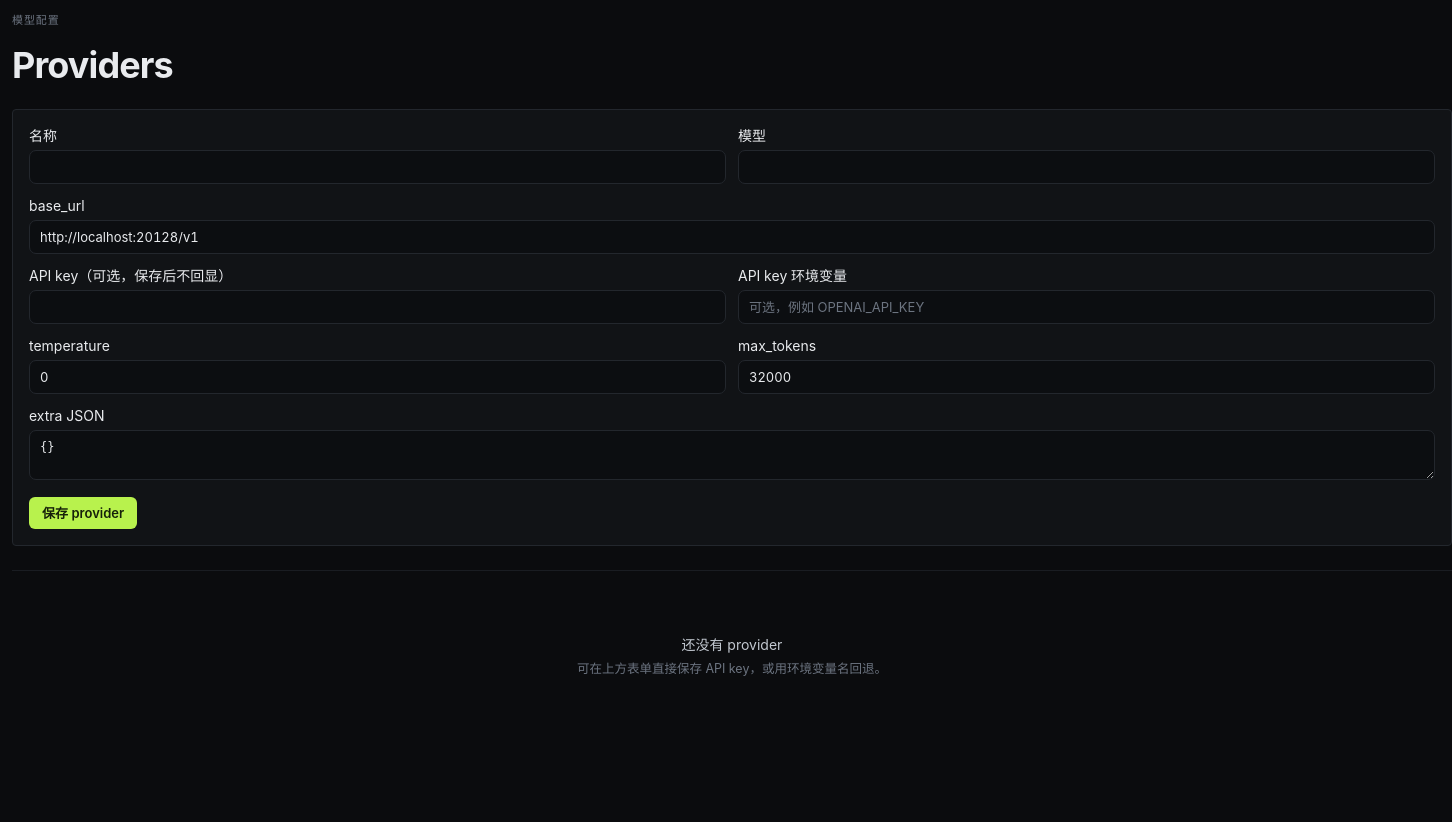
Scenario: ProvidersView › requires a stored key or an env ref
This screenshot has width=1452, height=822.
Type "local" into the field labelled "名称" at x=378, y=167, box [29,150,726,184]
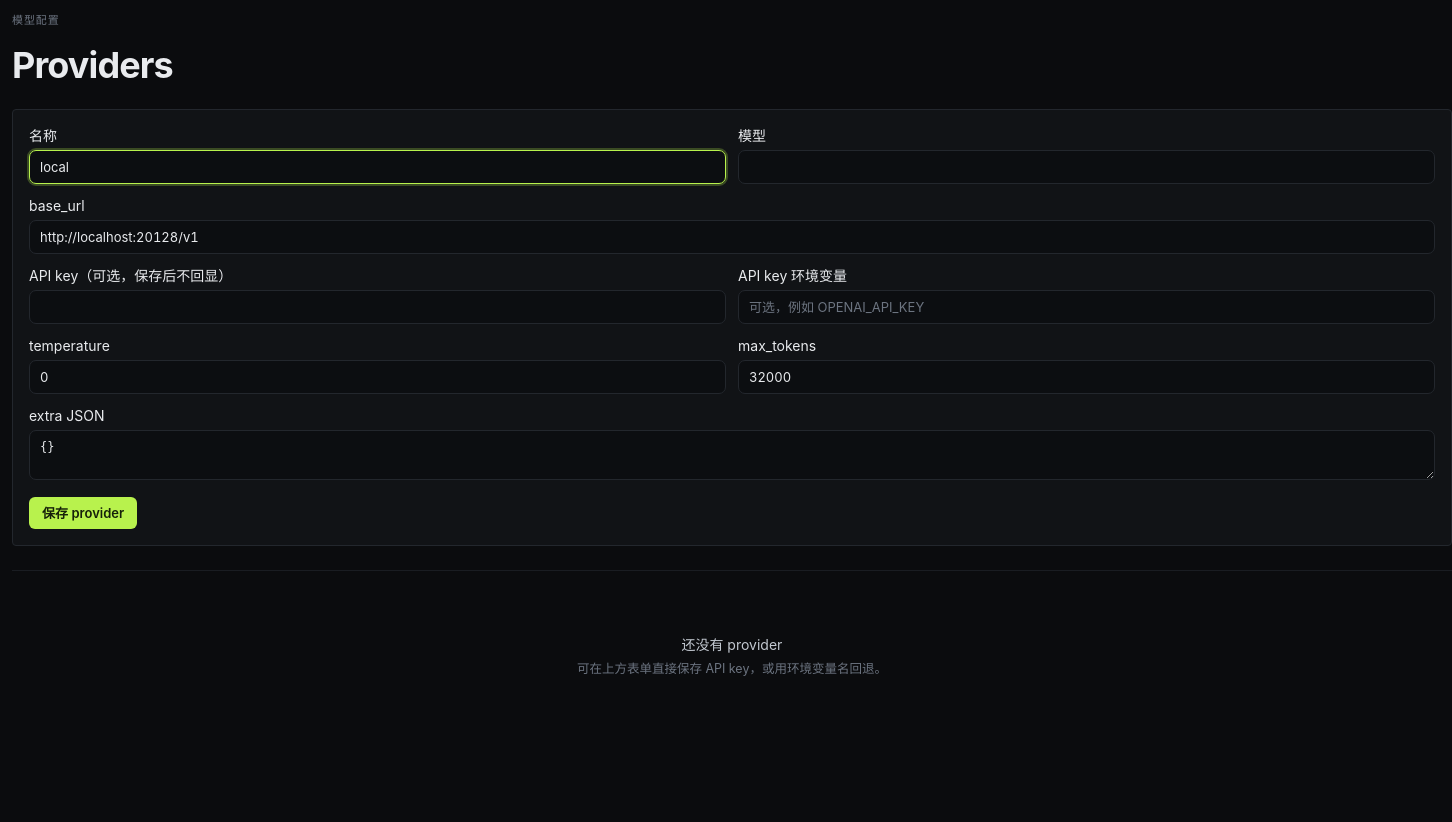
Type "gpt-oss" into the field labelled "模型" at x=1086, y=167, box [738,150,1435,184]
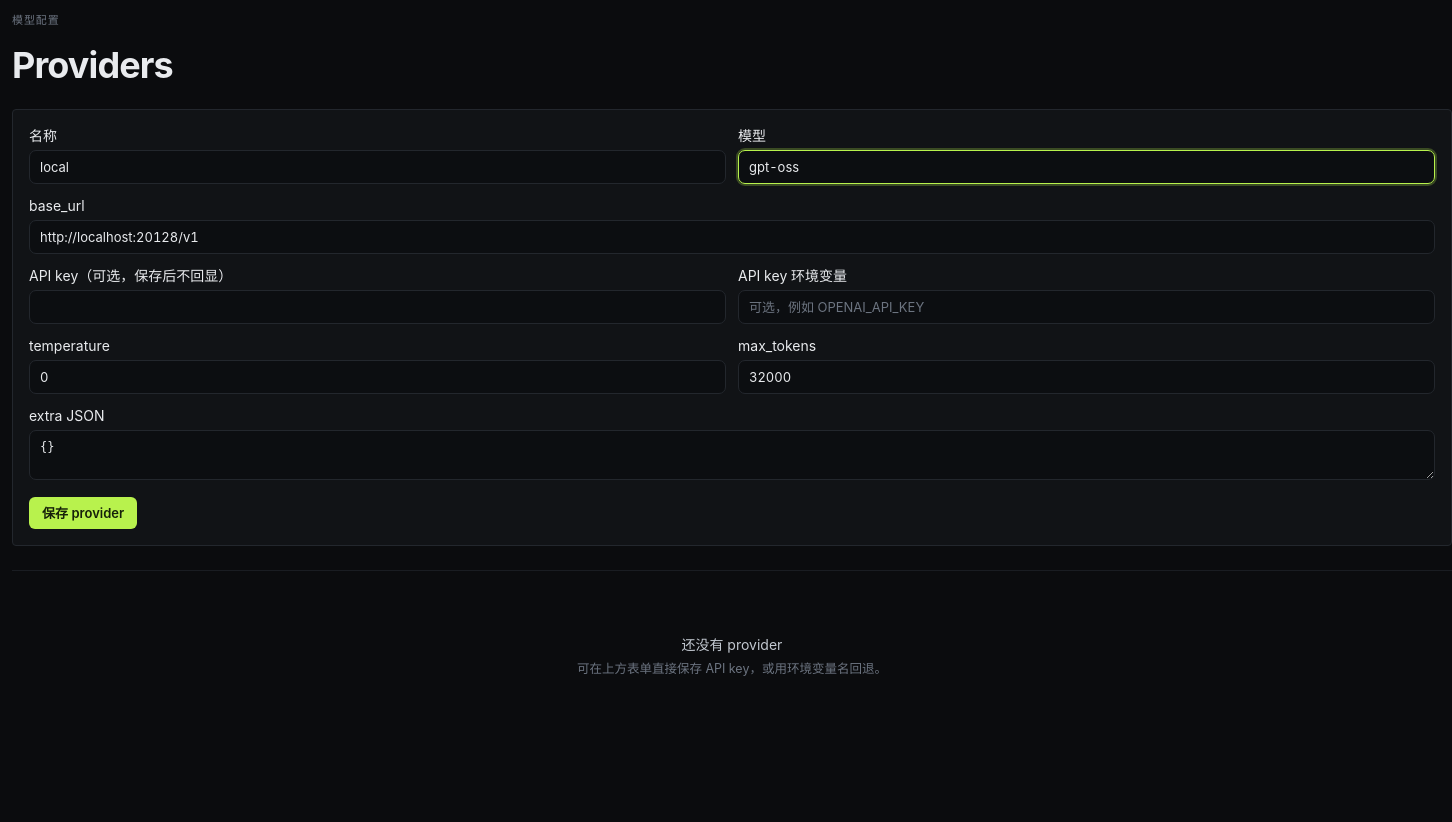
Click the button "保存 provider" at x=83, y=513, box [29,497,137,529]
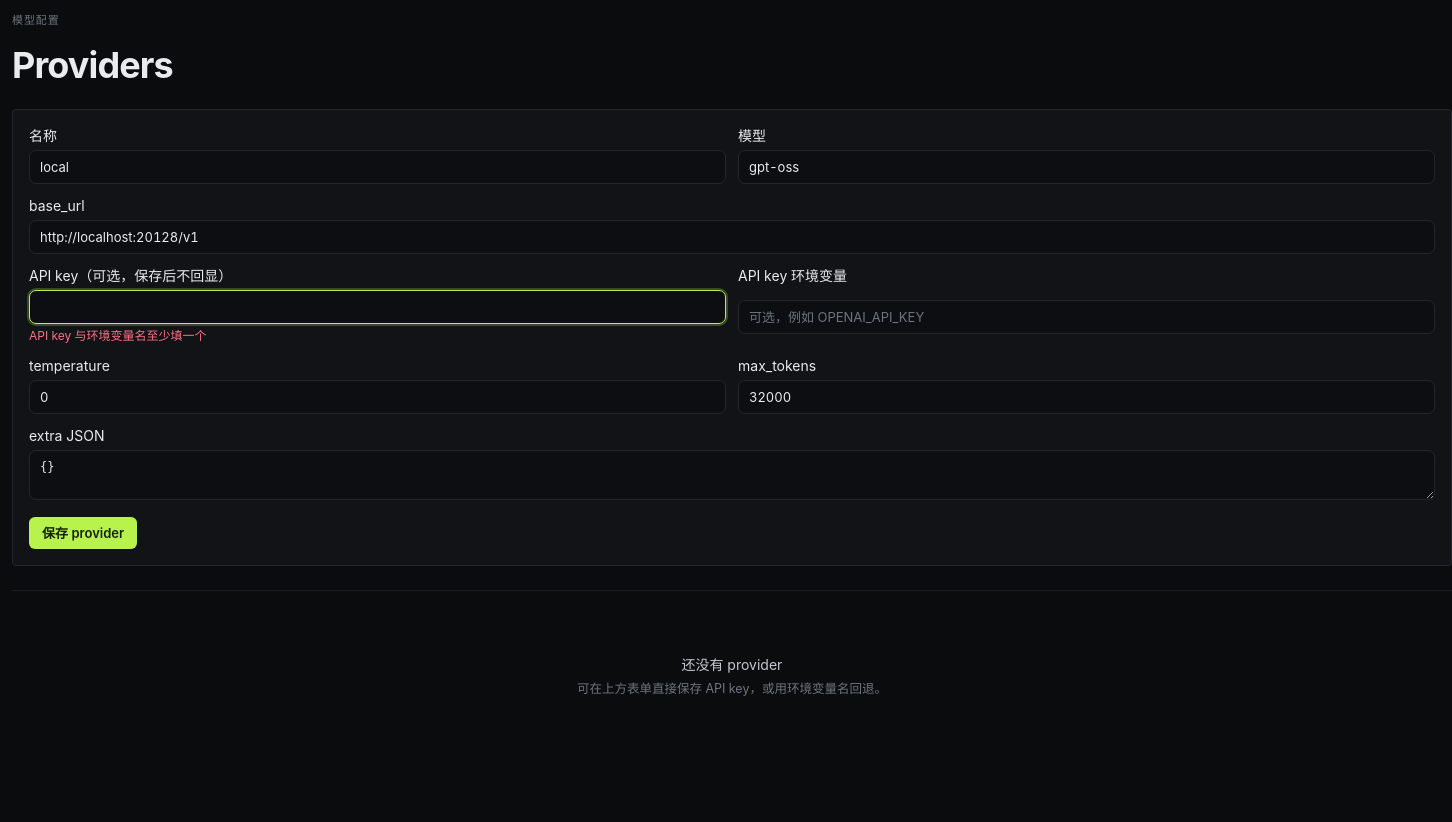
Expected: the text "API key 与环境变量名至少填一个" is shown, [29,328,206,343]
